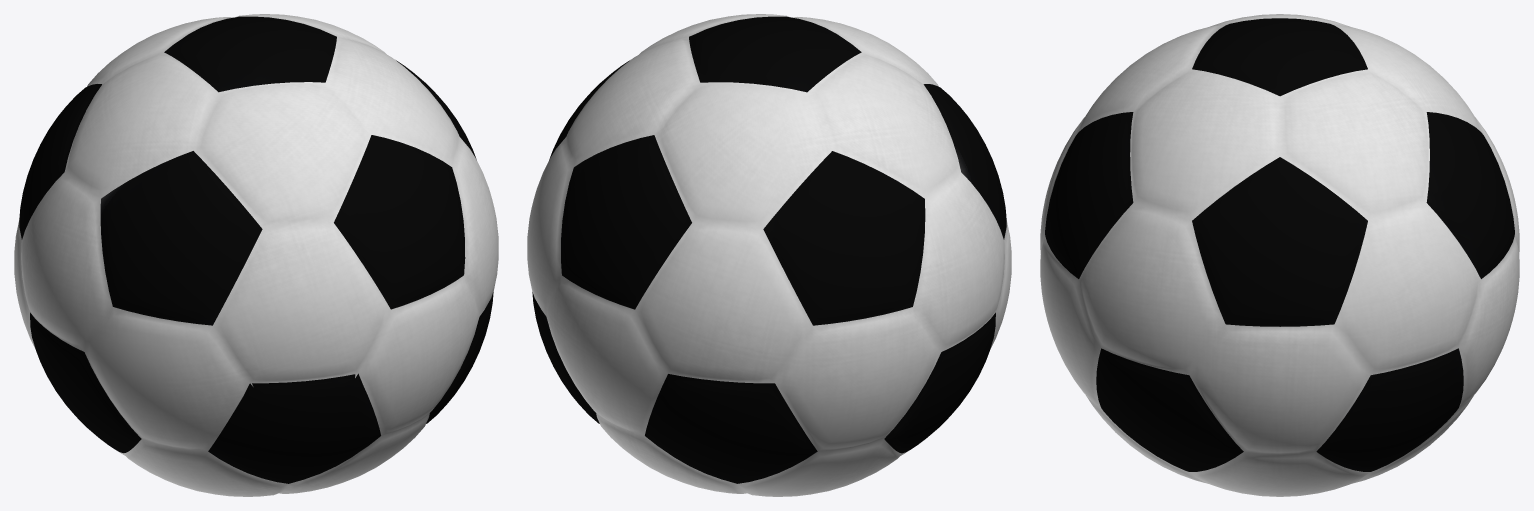
The model's file is ball.glb.
The picture shows the model from 3 angles, left to right: view 1: azimuth 30°, elevation 25°; view 2: azimuth 150°, elevation 25°; view 3: azimuth 270°, elevation 25°; orthographic projection.
Parts seen in each view (by area): view 1: Object_3, Object_2; view 2: Object_3, Object_2; view 3: Object_3, Object_2.
Boxes of the visible parts, x1=… form: Object_3: x1=14, y1=14, x2=498, y2=496; Object_2: x1=19, y1=16, x2=493, y2=483; Object_3: x1=527, y1=14, x2=1011, y2=496; Object_2: x1=532, y1=16, x2=1006, y2=483; Object_3: x1=1040, y1=14, x2=1519, y2=496; Object_2: x1=1045, y1=18, x2=1514, y2=471.
Bounding box in the file's own units: 2.1 × 2.11 × 2.09.
2 materials, 2 textured.
